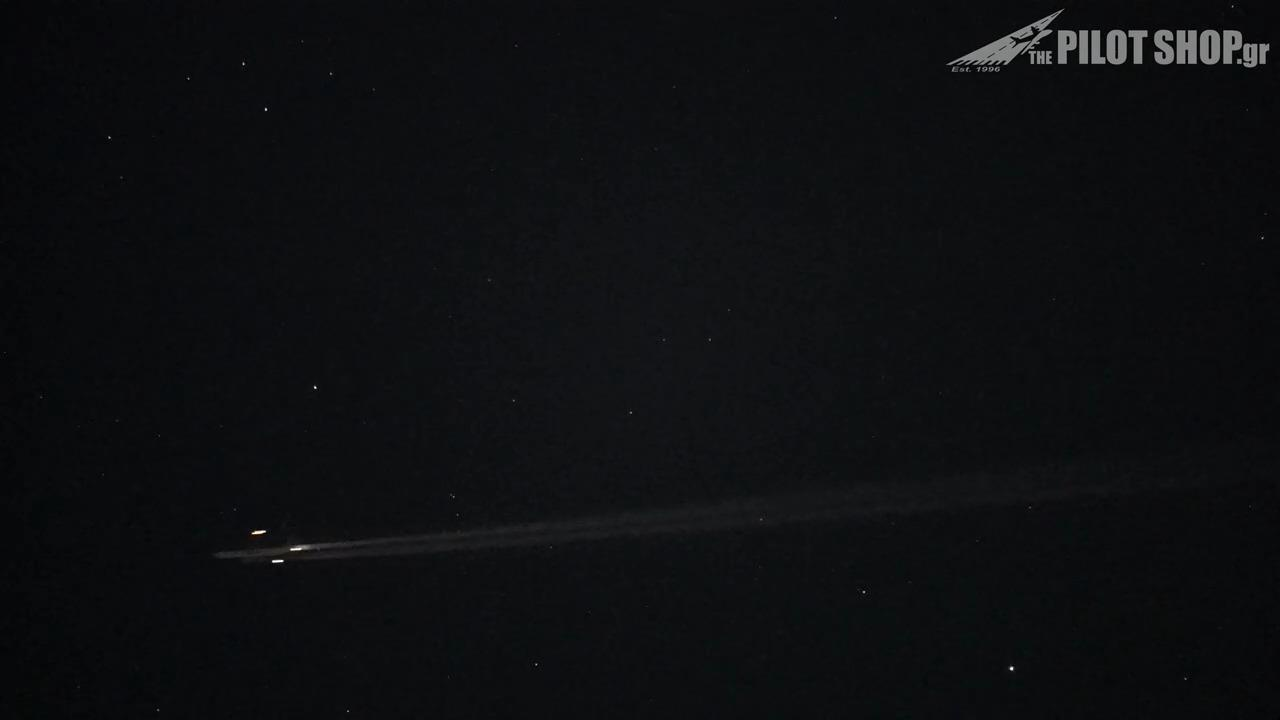Plane: (169, 523, 471, 574)
